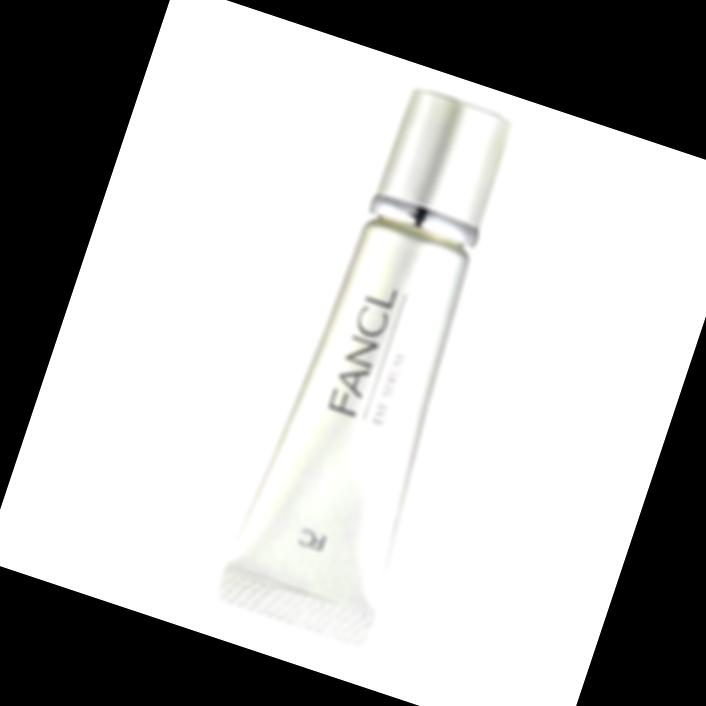cosmetic: (221, 78, 537, 651)
